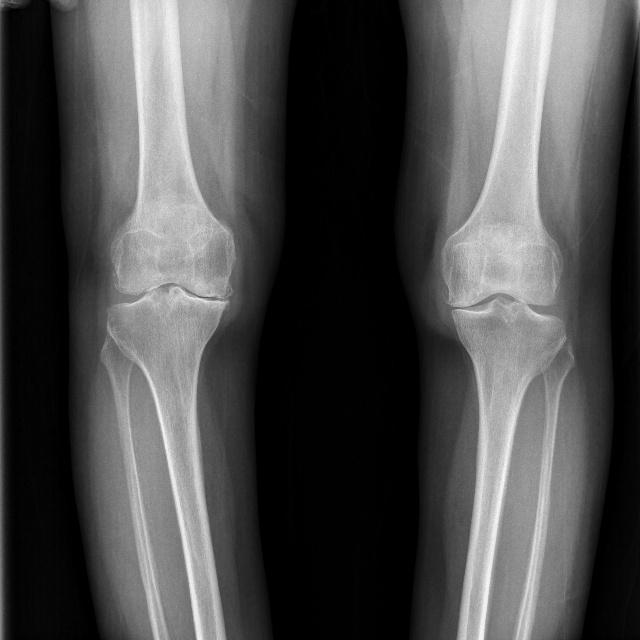Knee: (102, 231, 238, 356), (436, 240, 567, 364)
